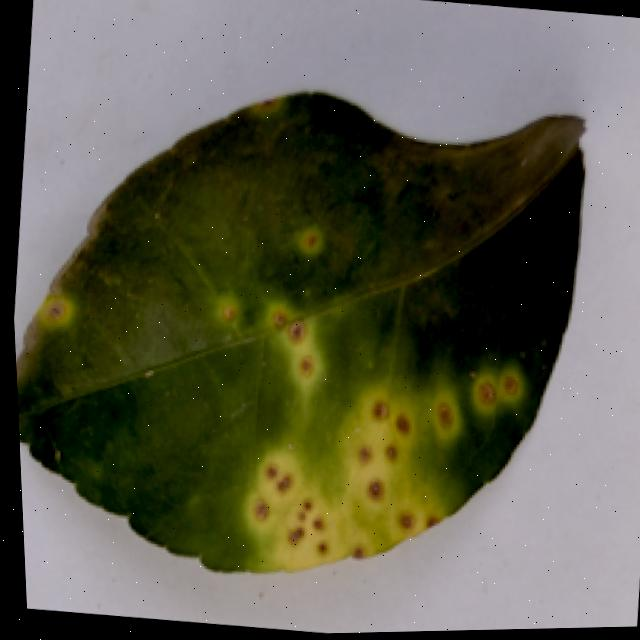canker: (16, 93, 582, 573), (181, 274, 553, 590), (23, 270, 95, 346), (281, 208, 335, 271)
